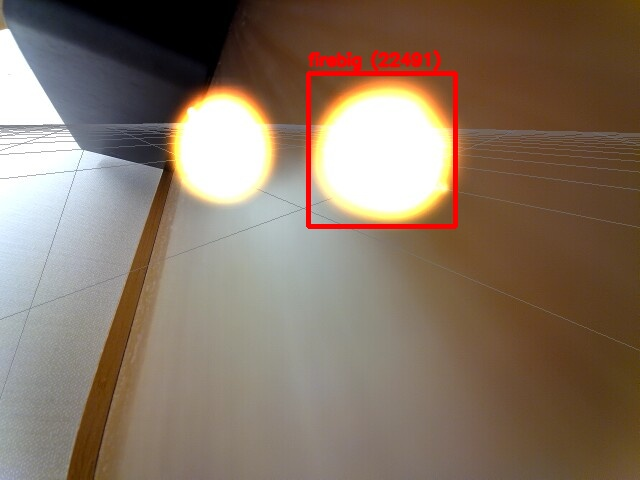firebig: (308, 73, 455, 226)
